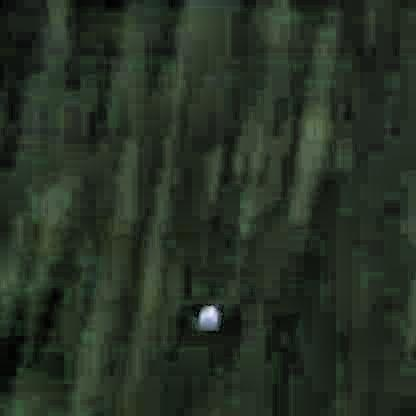golfball: (196, 300, 218, 325)
